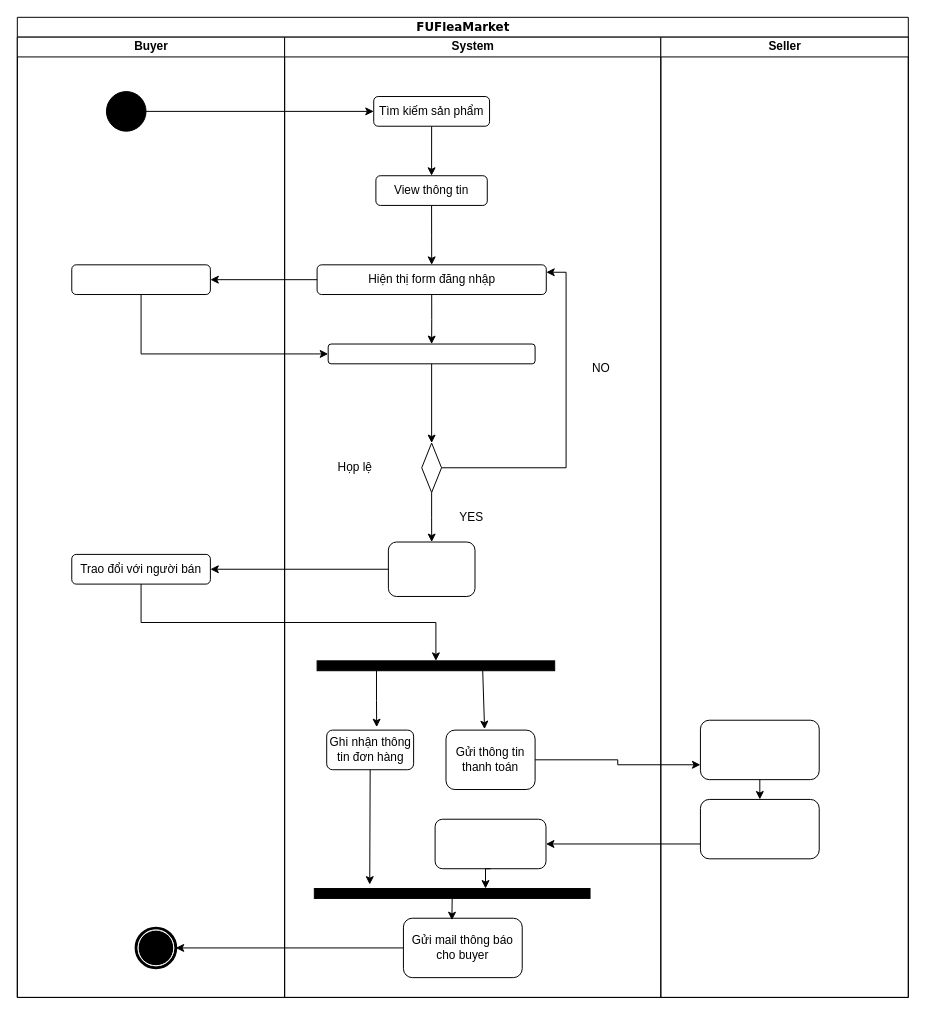
The diagram is 926 pixels wide and 1015 high, and some of its shapes have lost their labels. Each missing label, with the centre of its shape:
Chọn sản phẩm và thông tin sản phẩm: point 431,568
Cập nhật tình trạng thanh toán: point 490,843
Kiểm tra thông tin đăng nhập: point 431,353
xuất hóa đơn: point 759,828
Xử lý thanh toán: point 759,749
Điền thông tin đăng nhập: point 140,279
